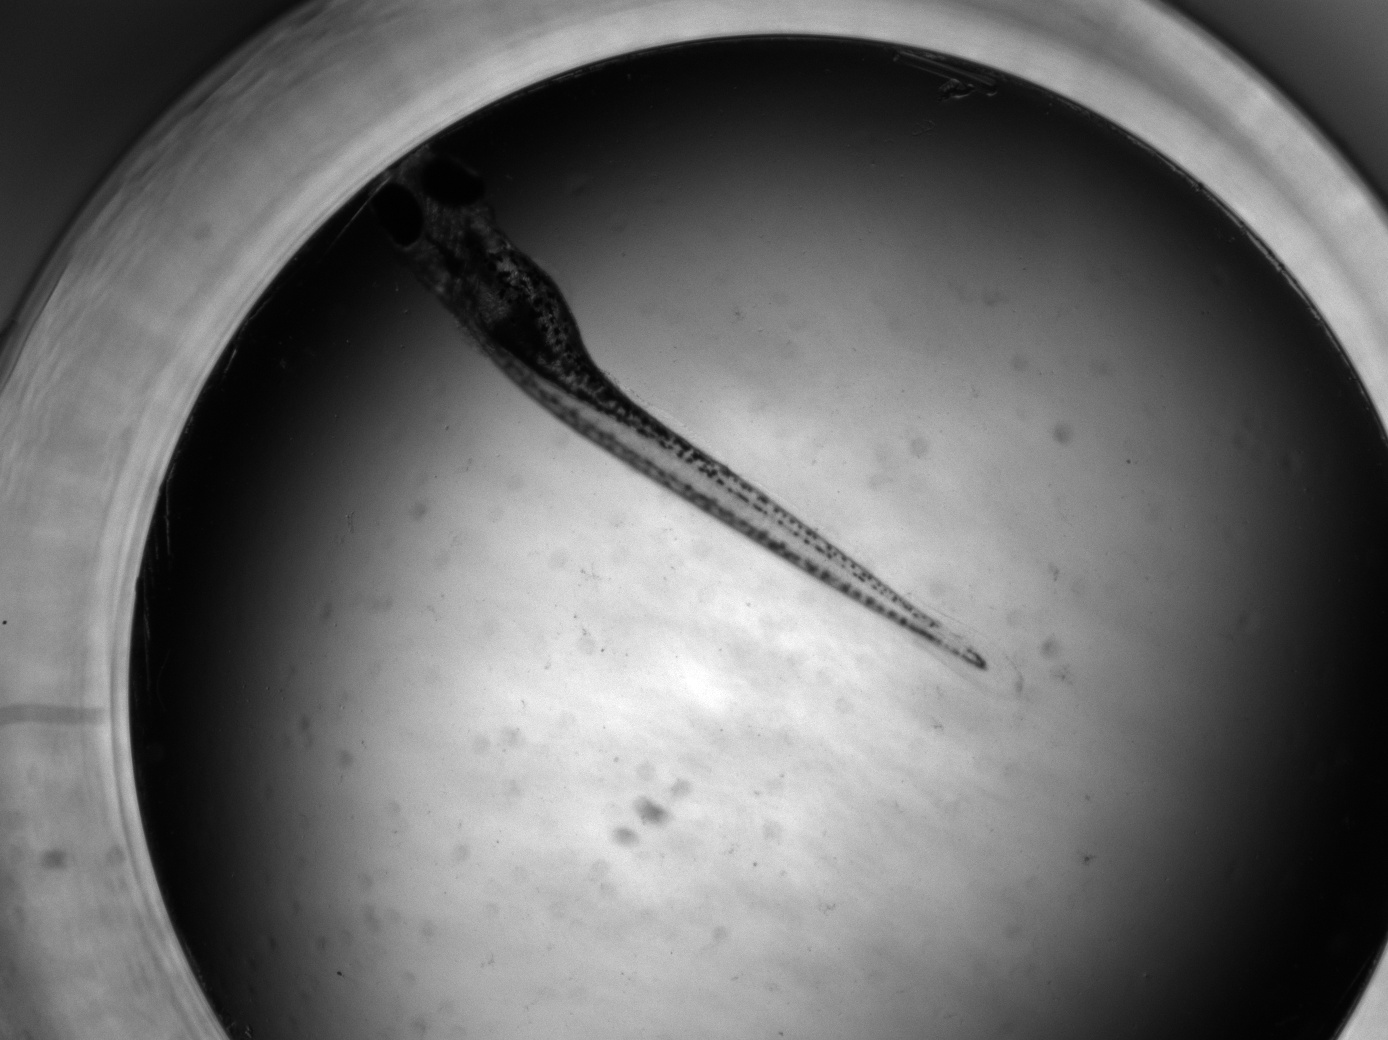embryo: (373, 153, 990, 676)
eye: (417, 155, 487, 210), (373, 185, 424, 246)
yolksac: (466, 250, 583, 382)
